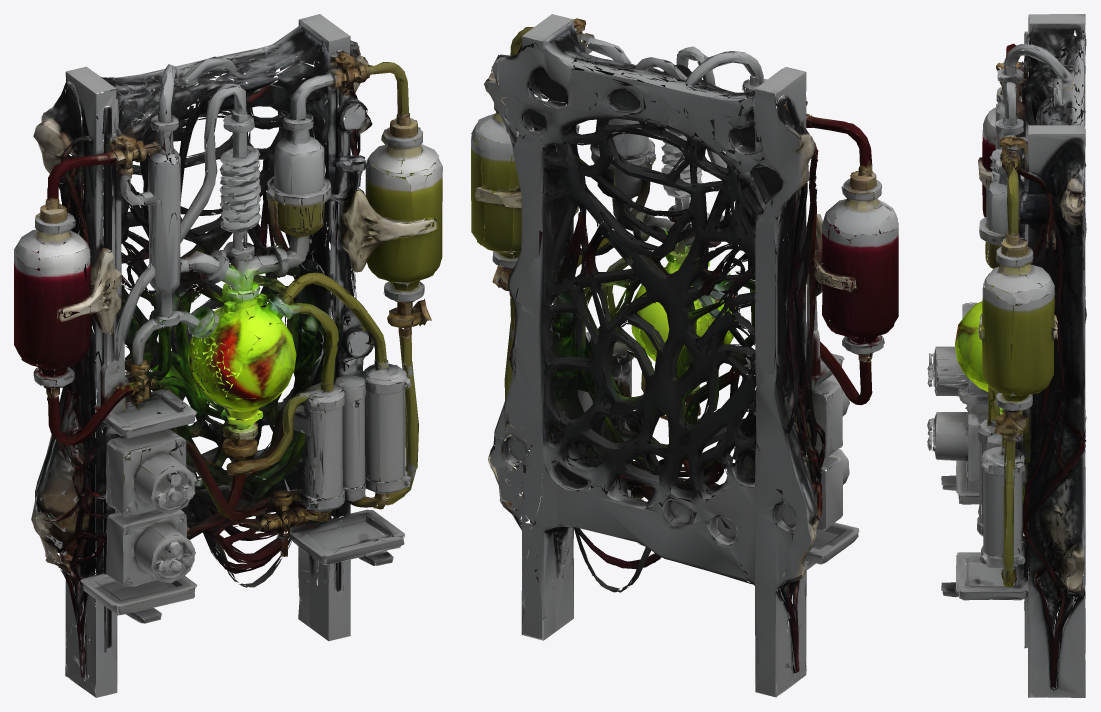
File: vass_hybrid_blood_synthesizer.glb
3 renders of one model, left to right at view 1: azimuth 30°, elevation 25°; view 2: azimuth 150°, elevation 25°; view 3: azimuth 270°, elevation 25°, orthographic. The views are drawn at different scales.
Visible parts, largest first — view 1: node_0; view 2: node_0; view 3: node_0.
Boxes of the visible parts, x1=… form: node_0: x1=14, y1=14, x2=442, y2=697; node_0: x1=471, y1=14, x2=898, y2=697; node_0: x1=927, y1=14, x2=1086, y2=697.
Bounding box in the file's own units: 0.7721 × 1.07 × 0.2723.
1 material, 1 textured.
